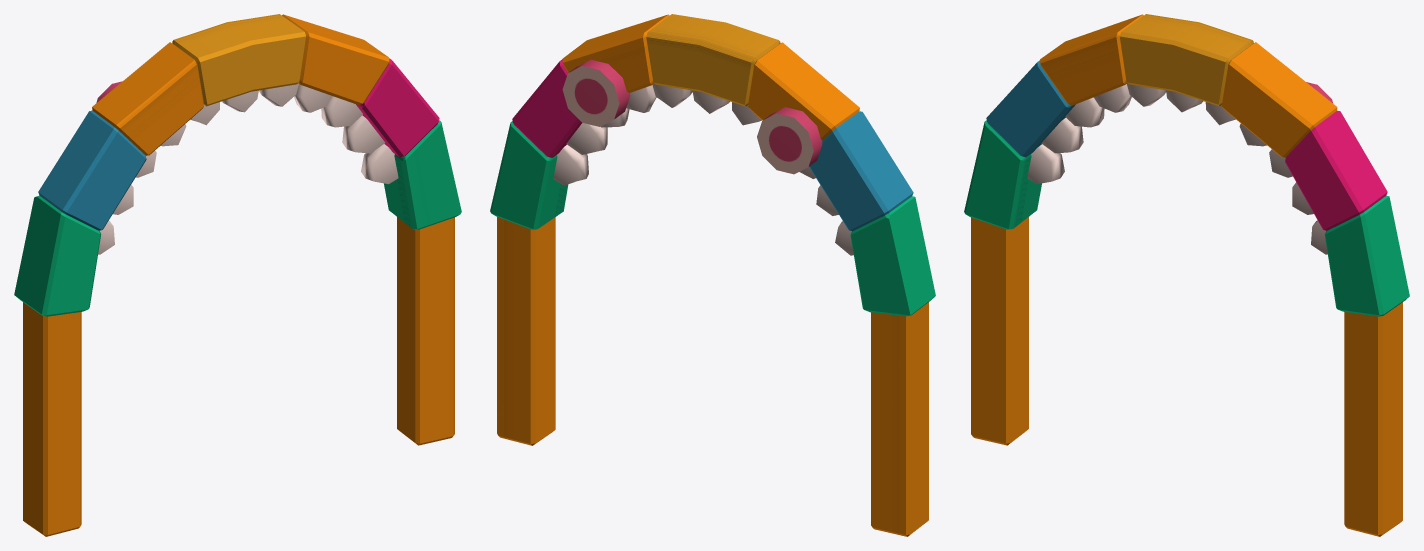
Rendered from DCR0110001.fbx.
The picture shows the model from 3 angles, left to right: view 1: azimuth 30°, elevation 25°; view 2: azimuth 150°, elevation 25°; view 3: azimuth 330°, elevation 25°; orthographic projection.
Parts seen in each view (by area): view 1: smDCR0110001; view 2: smDCR0110001; view 3: smDCR0110001.
Boxes of the visible parts, x1,y1,x2,y2 form: smDCR0110001: (14, 14, 461, 536); smDCR0110001: (490, 14, 935, 536); smDCR0110001: (964, 14, 1409, 536).
Size of the model in its own units: 861 by 875 by 133.
1 material, 1 textured.
